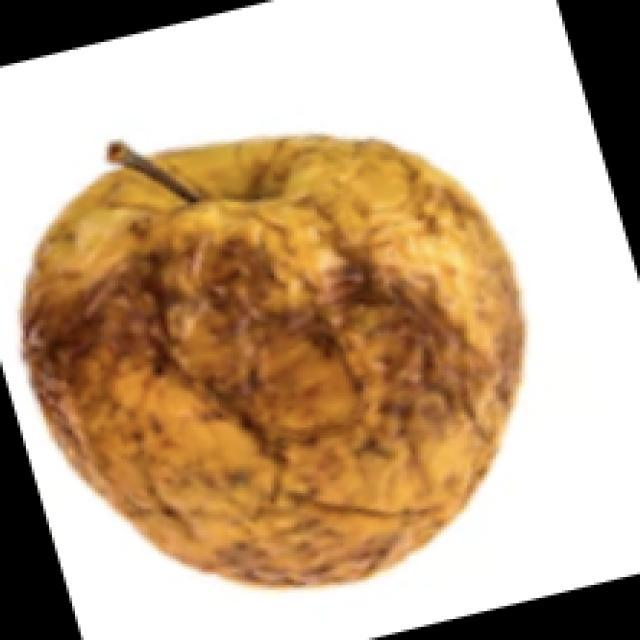Rotten: (28, 120, 517, 580)
